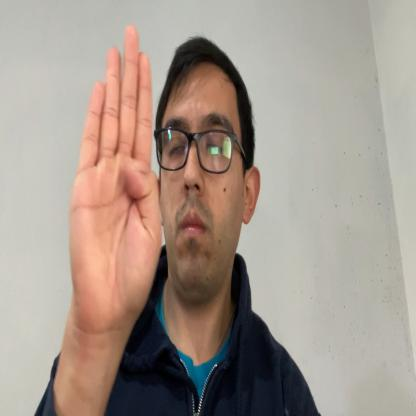B: (69, 24, 162, 340)
